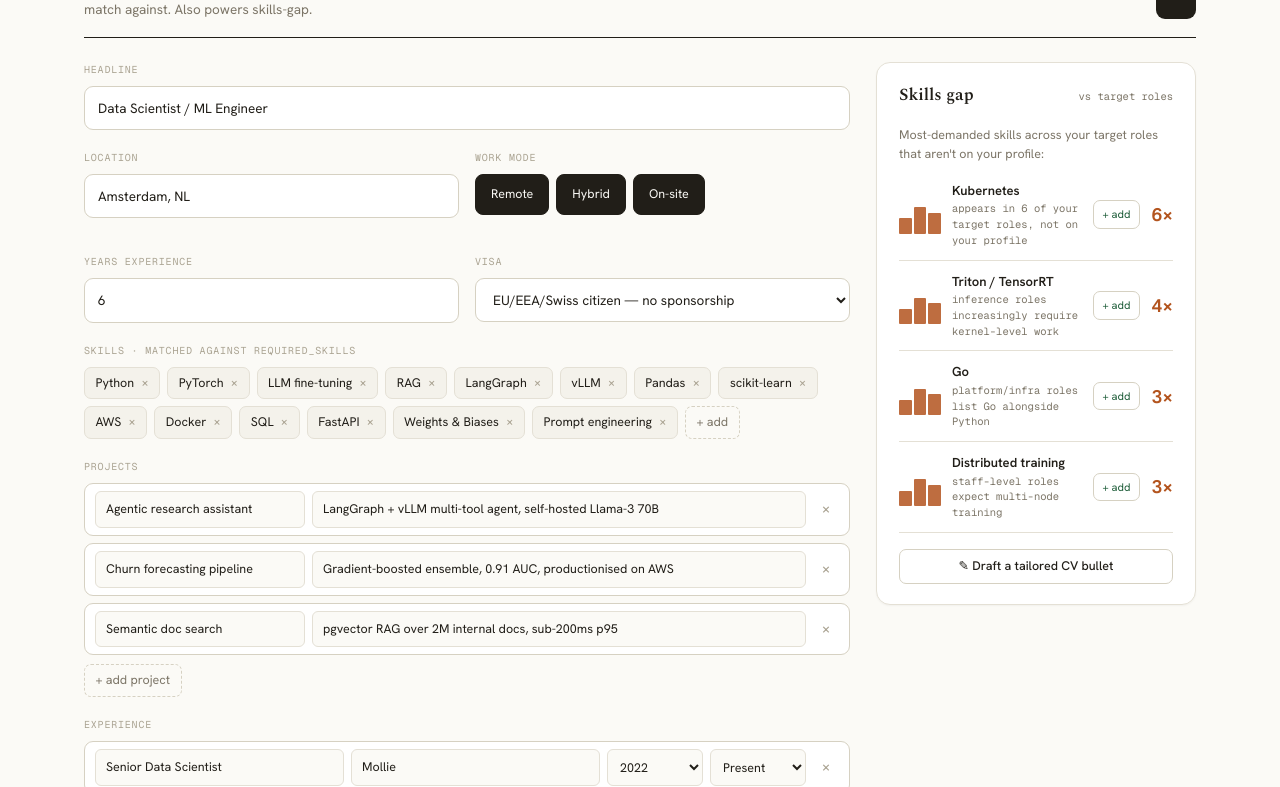
Test: CandidateView › Save profile PUTs the edited fields through the BFF route
The image size is (1280, 787).
Replace the text in the field showing "Data Scientist / ML Engineer" below "Headline" with "Staff ML Engineer" at point(467, 108), box x1=84 y1=86 x2=850 y2=130
(page scrolled)
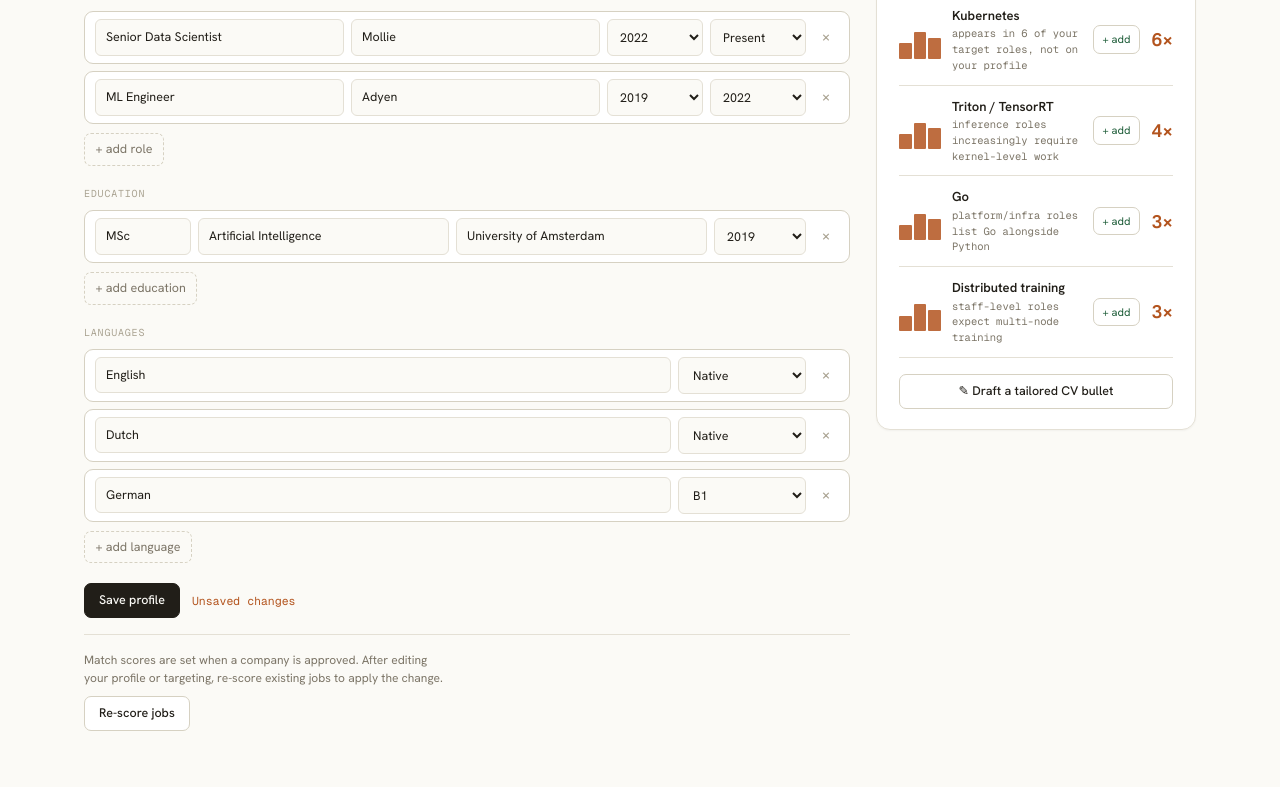
Click the button "Save profile".
click(132, 601)  # box x1=84 y1=583 x2=180 y2=618
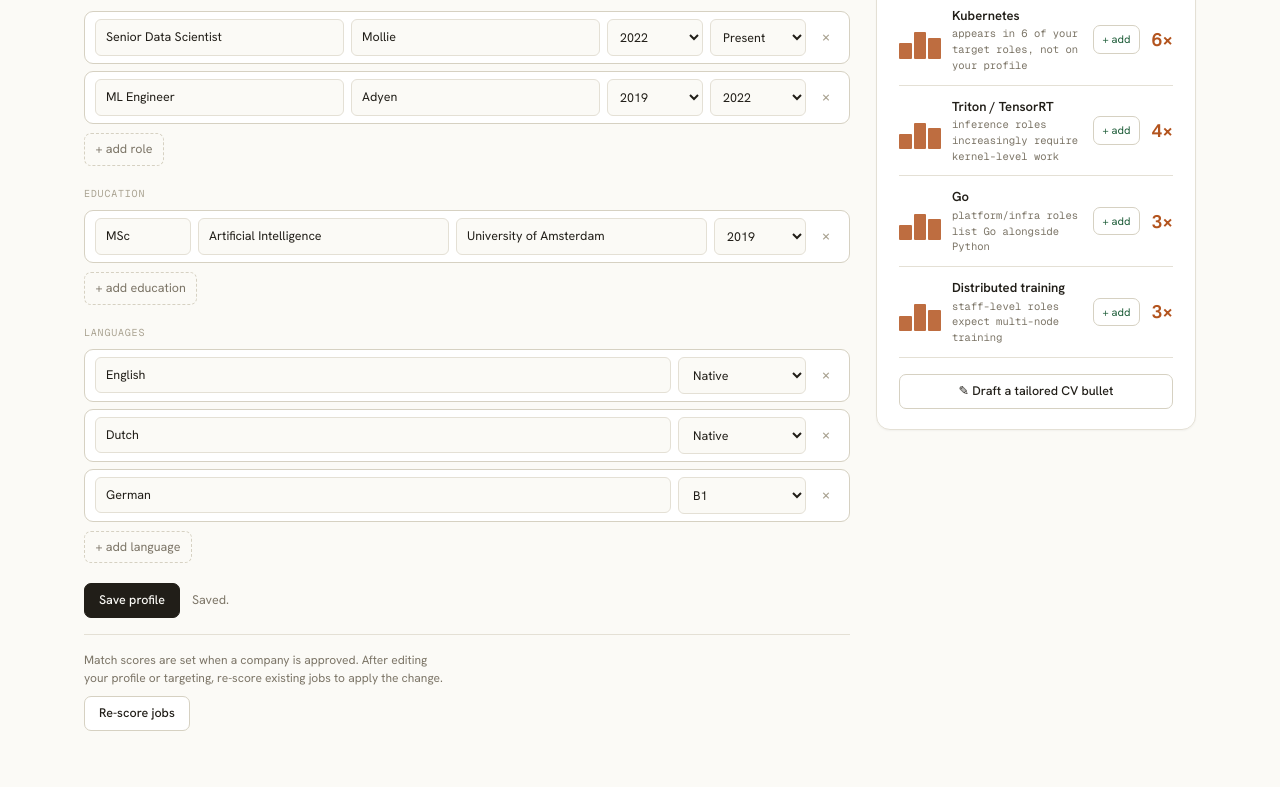
Now the text "Saved." is shown, box x1=192 y1=591 x2=229 y2=610
